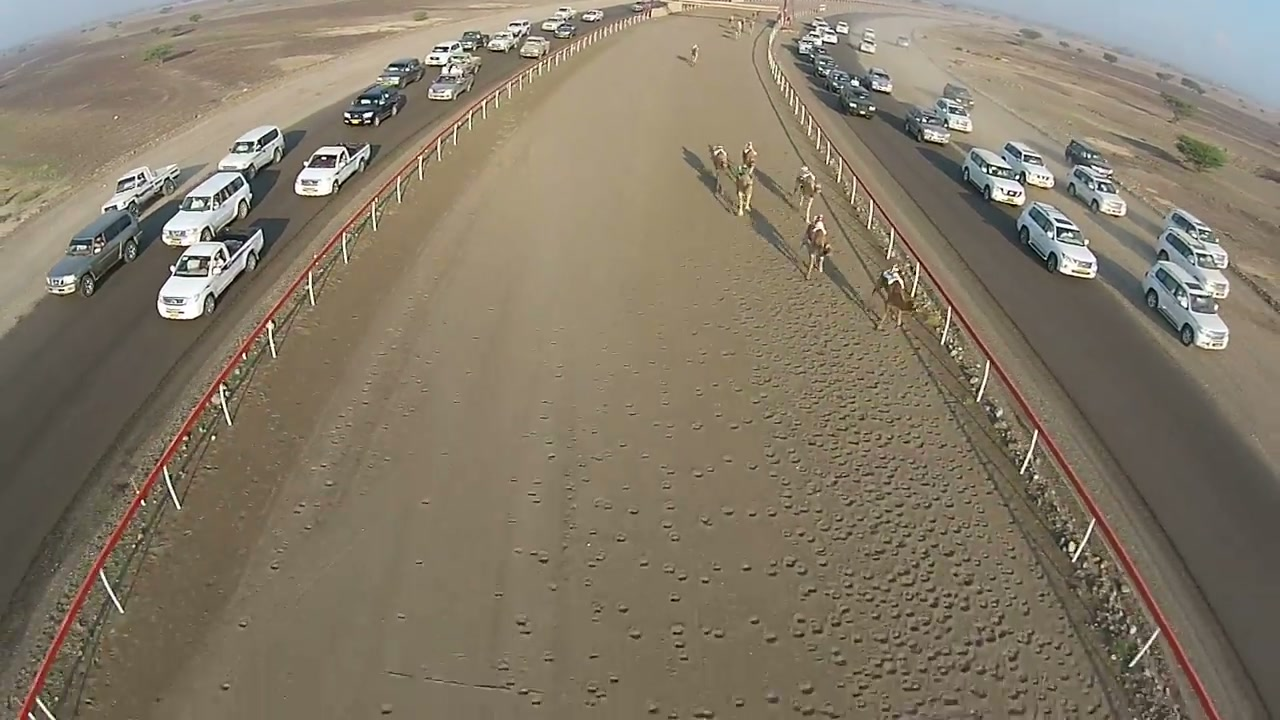animal_foot_print: (569, 264, 1106, 713)
